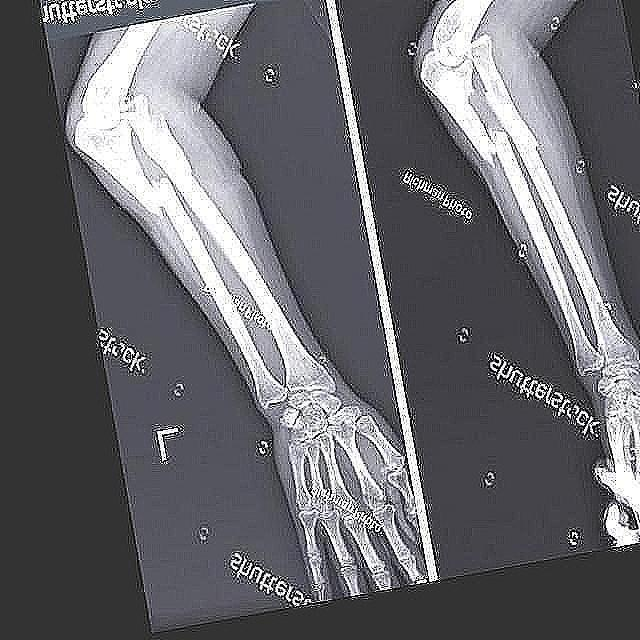bone: (133, 171, 178, 221), (476, 120, 510, 174)
